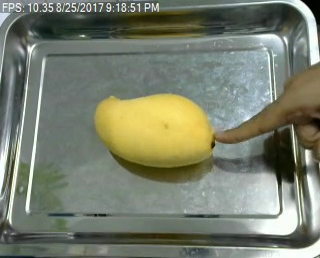Mango: (94, 93, 218, 171)
